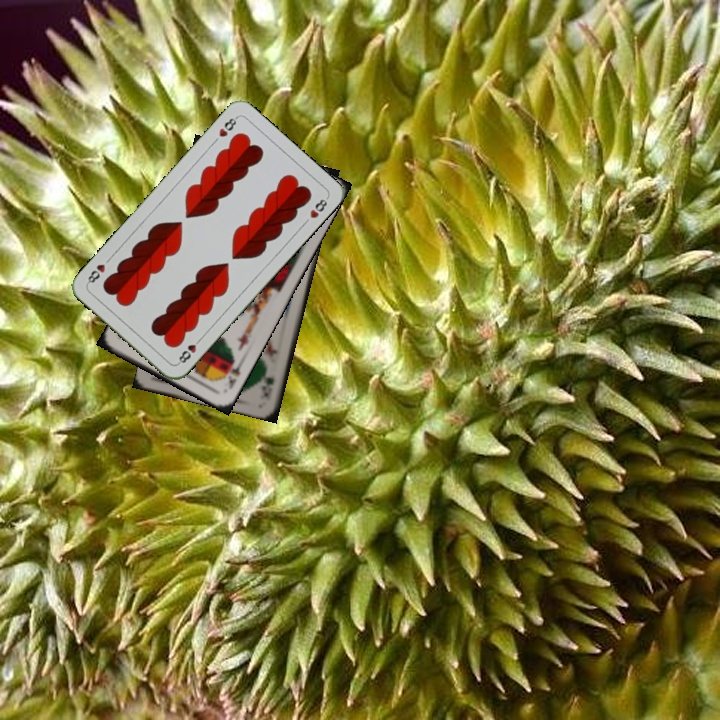GK: (260, 373, 277, 399)
H8: (174, 333, 204, 367), (215, 112, 240, 140)
SK: (220, 356, 244, 392)
